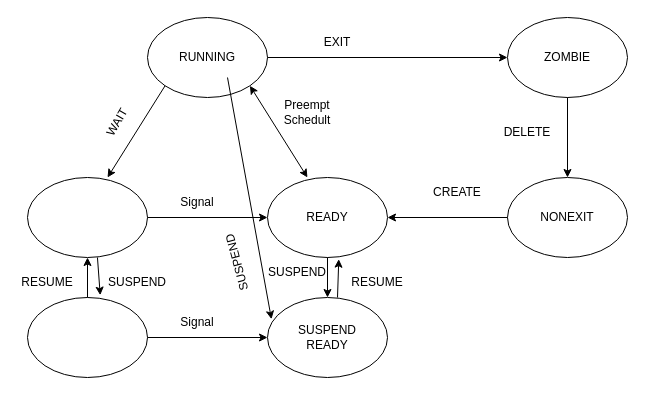
Image size: 645x395. Some labels were removed from this diagram. Here are the shapes that lost their labels. From the top down, the centre of each, then its label:
At point (87, 217): "BLOCKED".
At point (87, 337): "SUSPEND BLOCKED".
